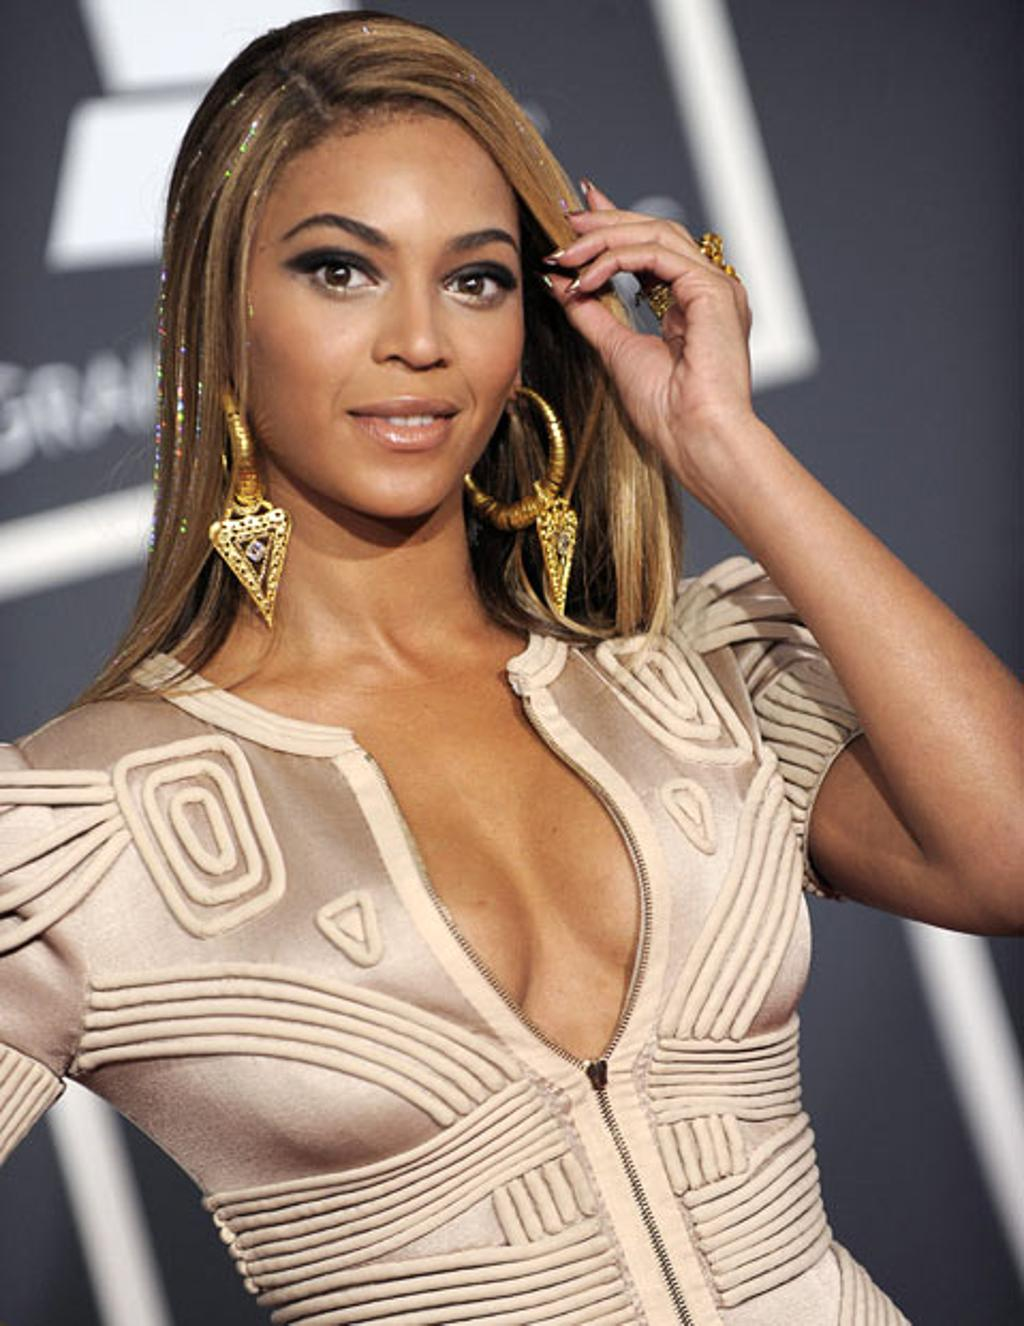face: (235, 109, 525, 507)
